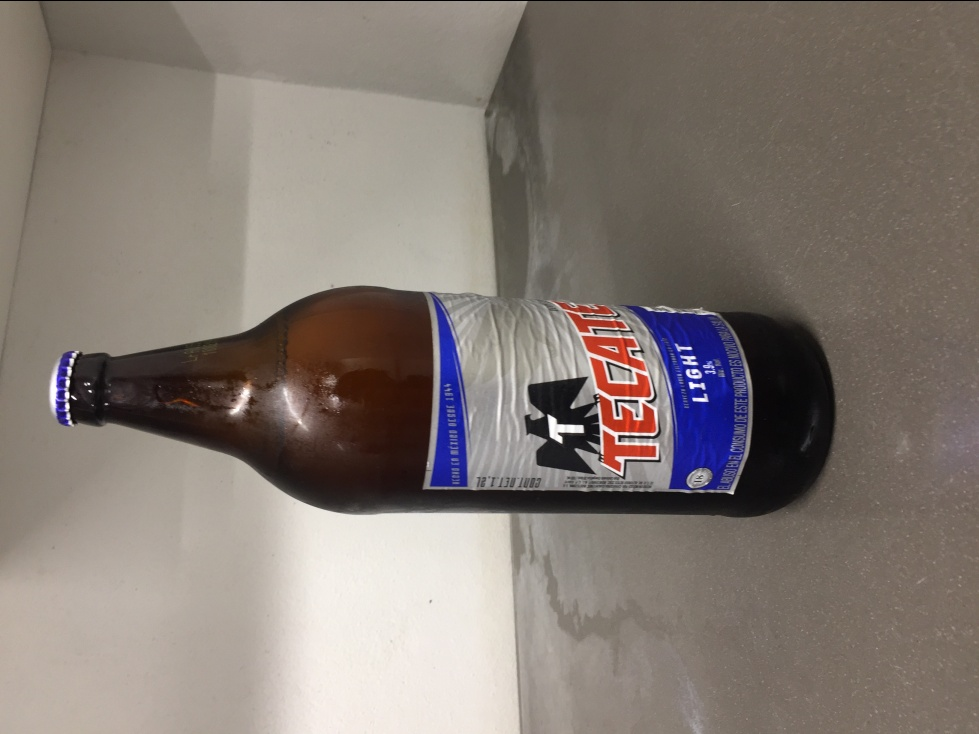tecateC: (52, 285, 837, 516)
